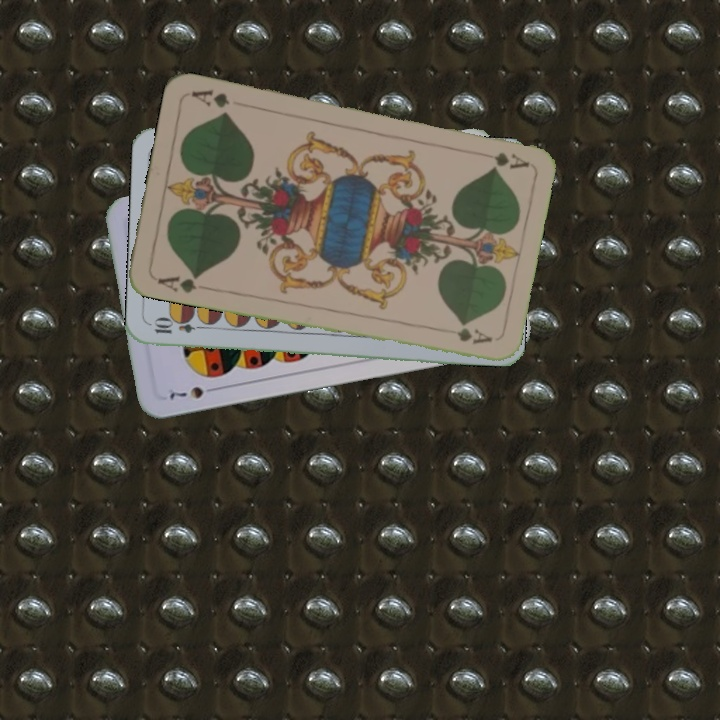E10: (150, 318, 209, 337)
GA: (472, 147, 531, 171), (153, 270, 202, 296)
S7: (165, 382, 221, 402)
